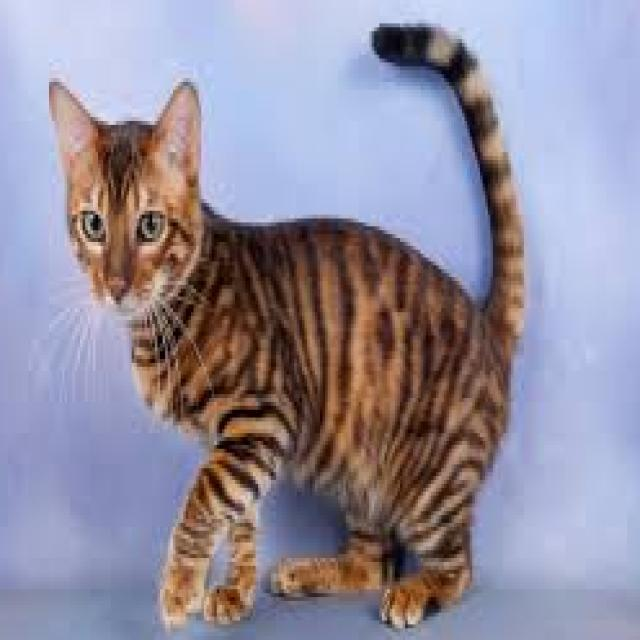Toyger: (44, 13, 531, 637)
